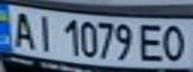0: (78, 17, 96, 59)
1: (57, 16, 81, 56)
7: (97, 19, 118, 60)
9: (115, 20, 139, 62)
A: (6, 8, 39, 50)
E: (136, 20, 169, 63)
I: (30, 11, 57, 53)
O: (157, 21, 190, 62)
